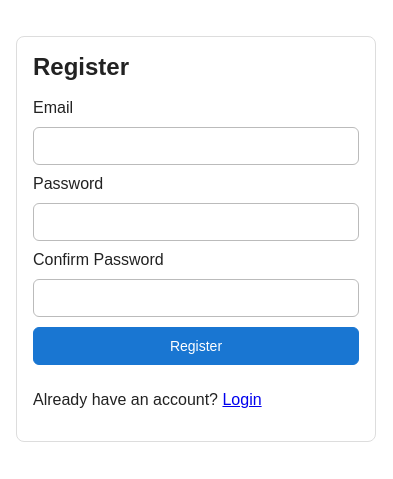
Test case: RegisterPage › submits registration and redirects to login
In the field labelled "Email": (196, 146) [33,127,359,165], type "user@example.com"
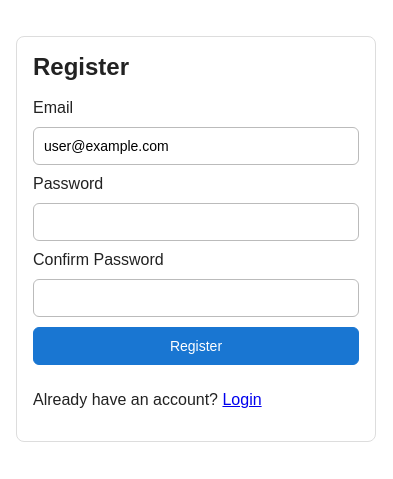
In the password field labelled "Password": (196, 222) [33,203,359,241], type "password123"
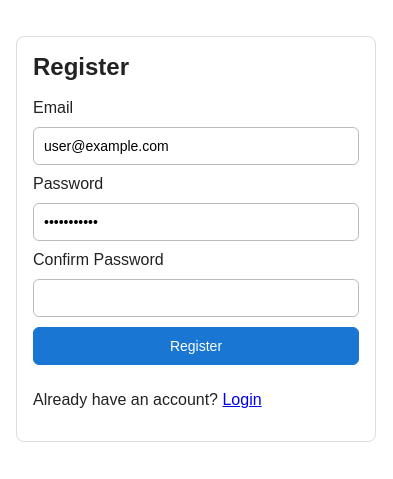
In the password field labelled "Confirm Password": (196, 298) [33,279,359,317], type "password123"
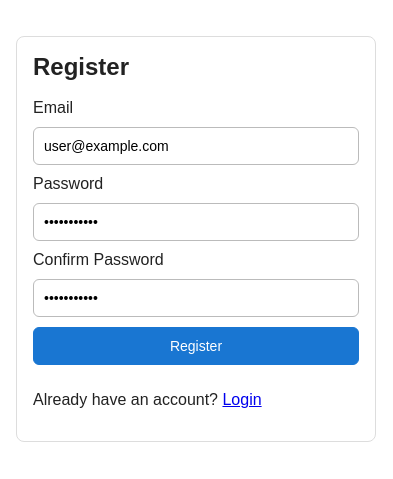
Click the button "Register": (196, 346) [33,327,359,365]
Wait 1200 ms
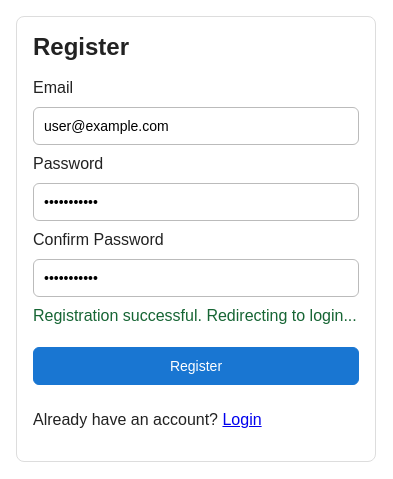
Expected: the text "Registration successful. Redirecting to login..." is shown, [33,307,359,325]
